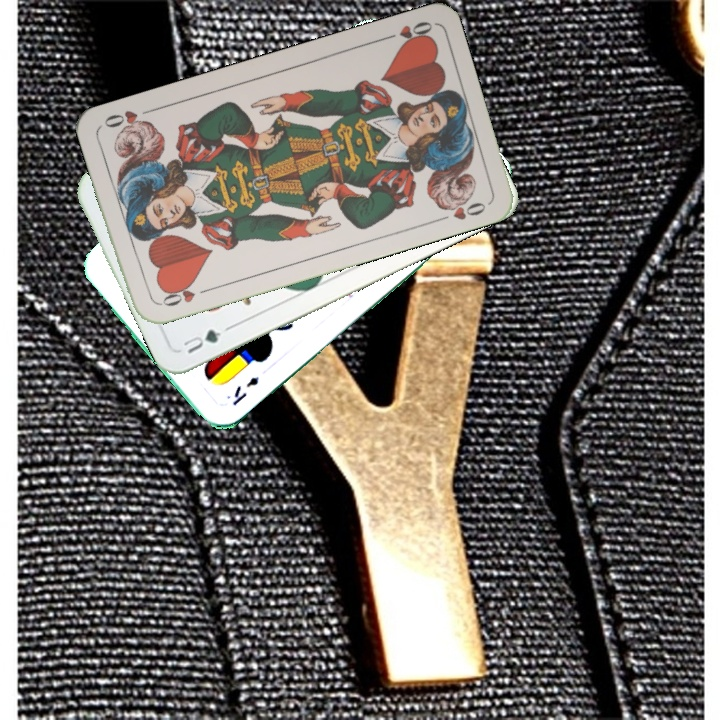EK: (228, 372, 262, 408)
GU: (179, 325, 224, 357)
HO: (154, 278, 212, 309), (377, 17, 435, 48)
